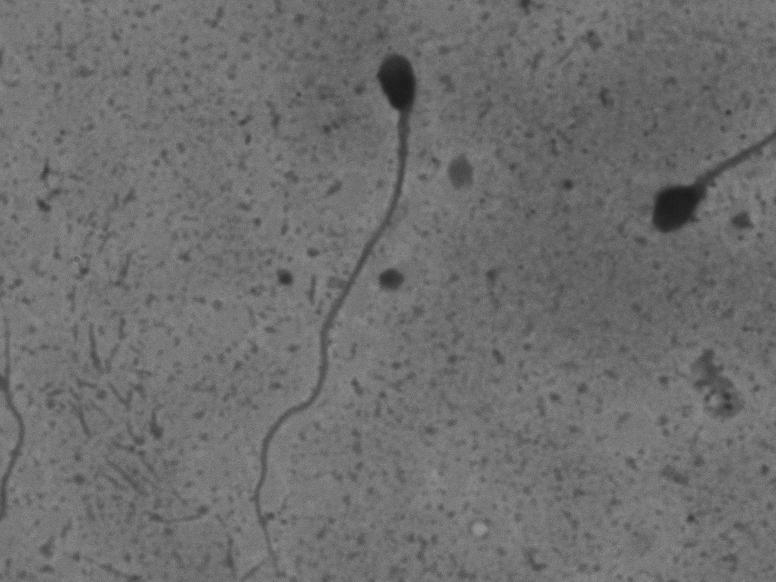Abnormal: (626, 85, 755, 277)
Normal: (243, 40, 448, 545)
